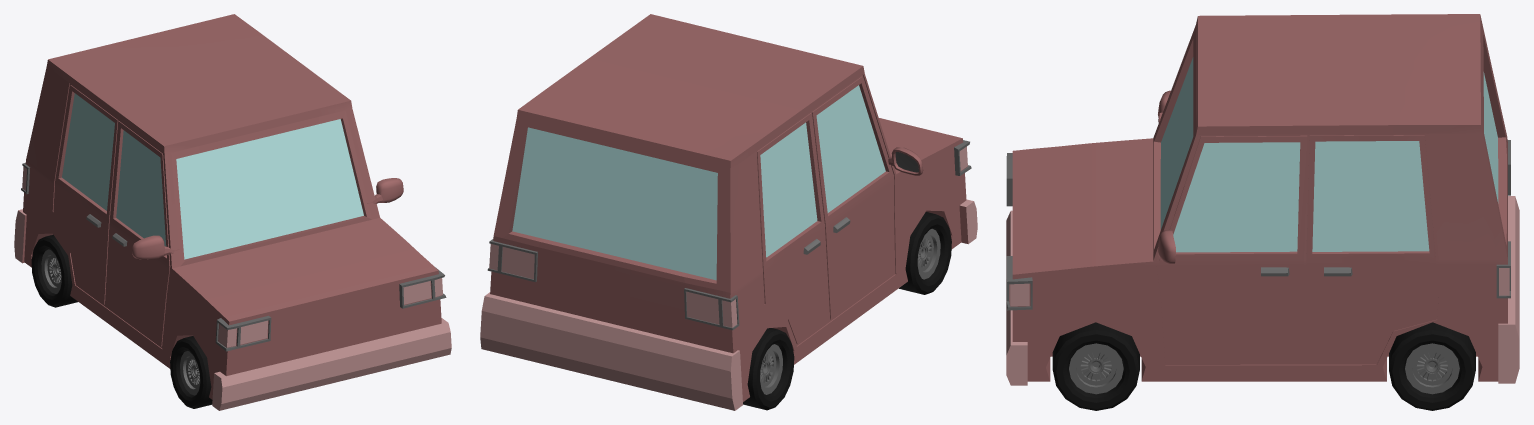
The model's file is new_car.fbx.
3 views of the same model, side by side, from view 1: azimuth 30°, elevation 25°; view 2: azimuth 150°, elevation 25°; view 3: azimuth 270°, elevation 25° (orthographic). The views are drawn at different scales.
Visible parts, largest first — view 1: polySurface31; view 2: polySurface31; view 3: polySurface31.
Boxes of the visible parts, x1,y1,x2,y2 form: polySurface31: (14,14,451,410); polySurface31: (480,14,977,410); polySurface31: (1006,14,1519,410).
Bounding box in the file's own units: 4.06 × 3.26 × 5.51.
